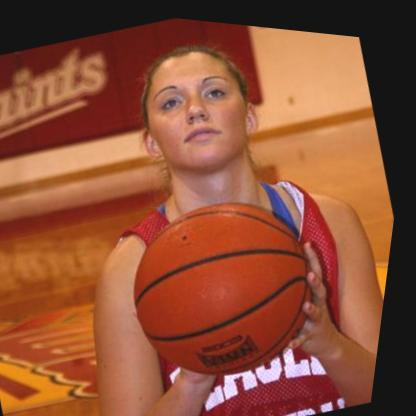basketball: (106, 165, 351, 401)
